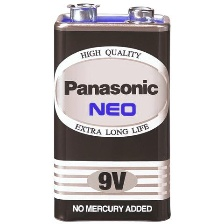battery: (50, 1, 174, 222)
